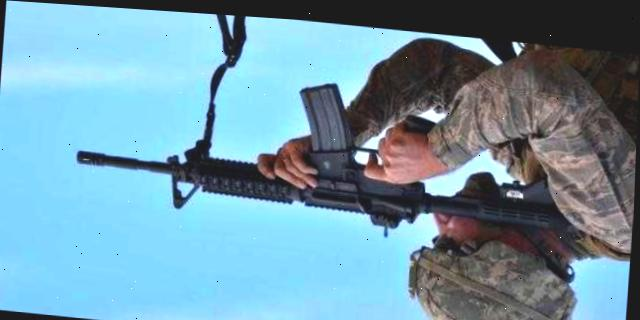rifle: (62, 72, 580, 239)
